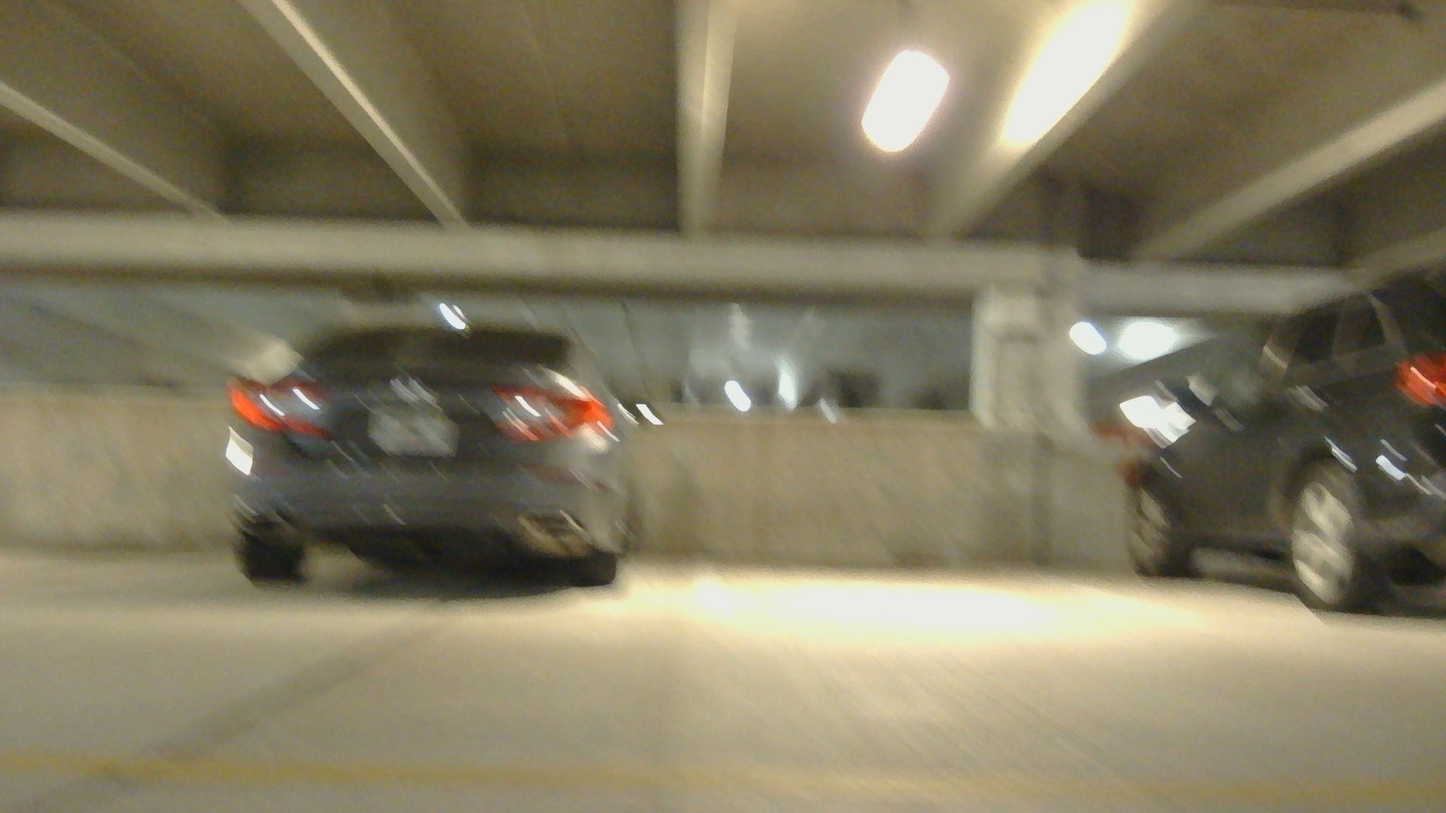empty_spot: (680, 494, 1246, 632)
occupied_spot: (215, 315, 651, 601), (1118, 275, 1445, 624)
